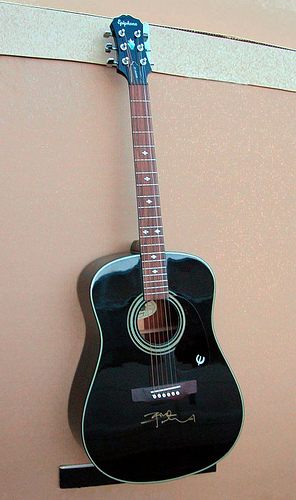guitar: (64, 14, 244, 483)
